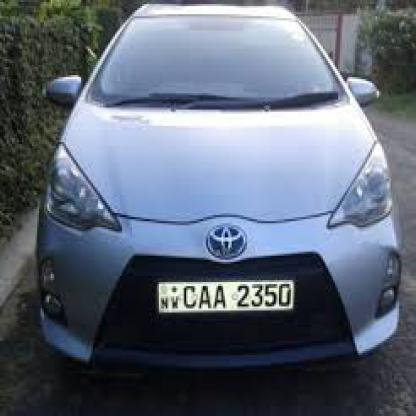car: (36, 4, 404, 380)
